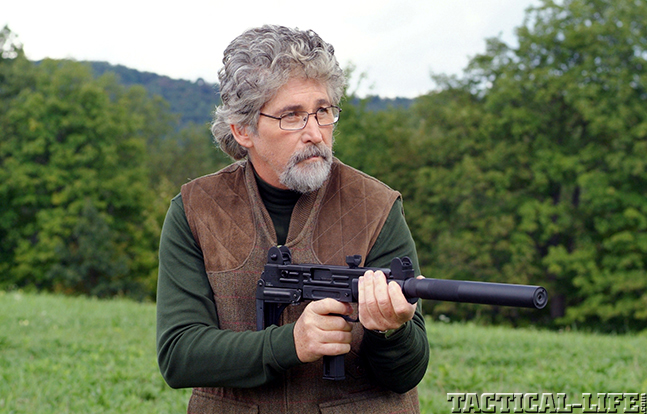rifle: (252, 243, 558, 382)
